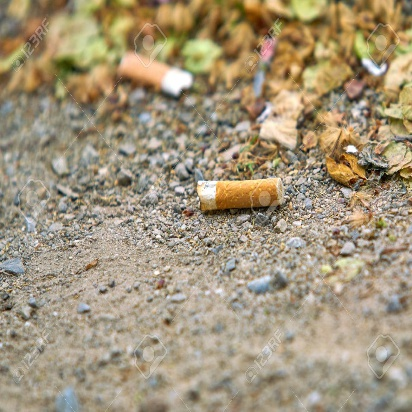cigarette: (186, 173, 289, 220), (114, 54, 201, 103)
